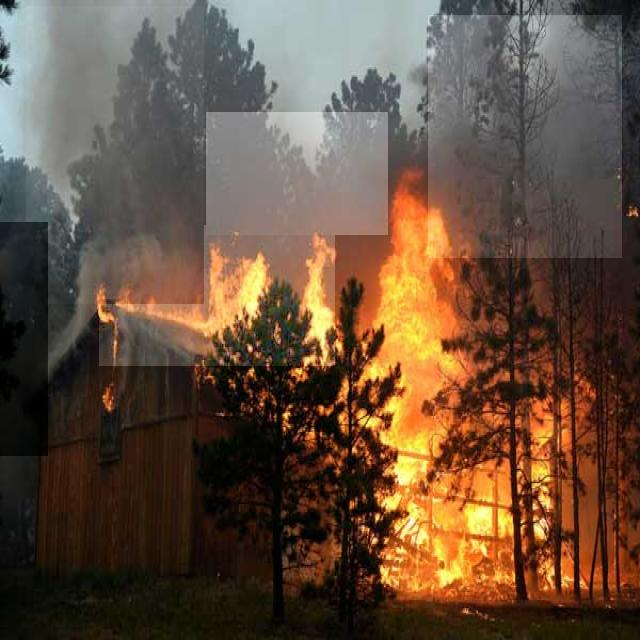Fire: (332, 195, 578, 591), (99, 225, 335, 366)
Smoke: (26, 6, 204, 304), (428, 15, 622, 258), (206, 112, 388, 235), (0, 222, 48, 456)
